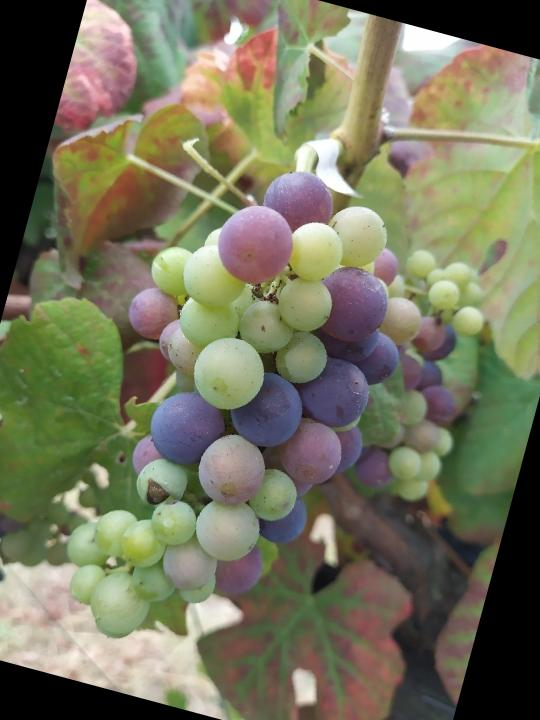grape: (41, 133, 444, 694)
